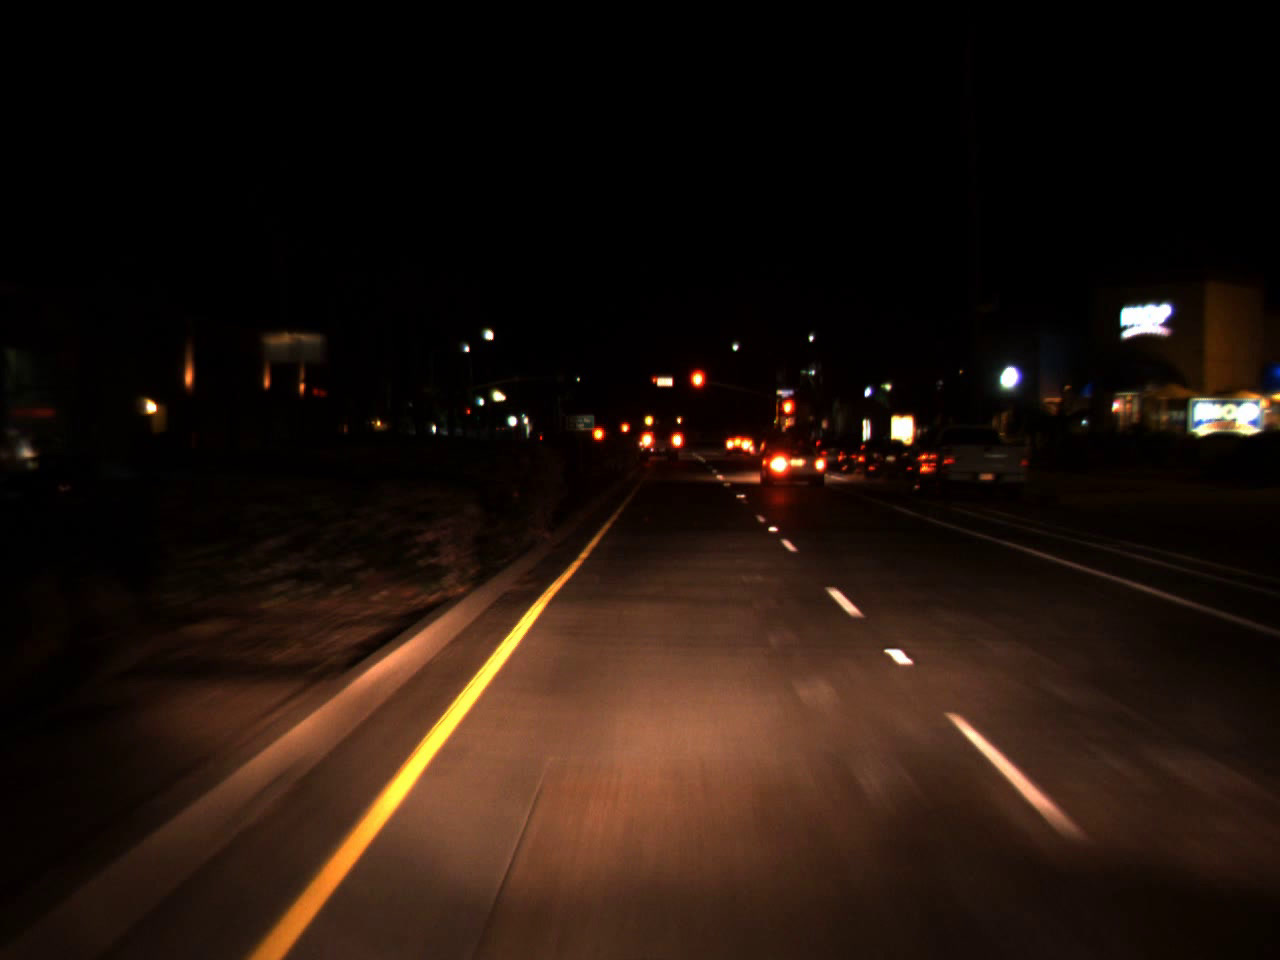stop: (687, 367, 706, 410), (779, 396, 797, 433), (650, 375, 659, 388)
